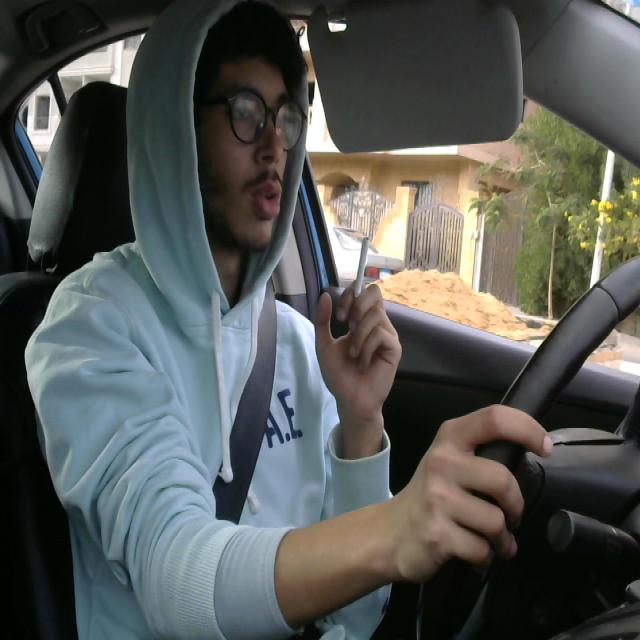smoking: (347, 232, 372, 326)
